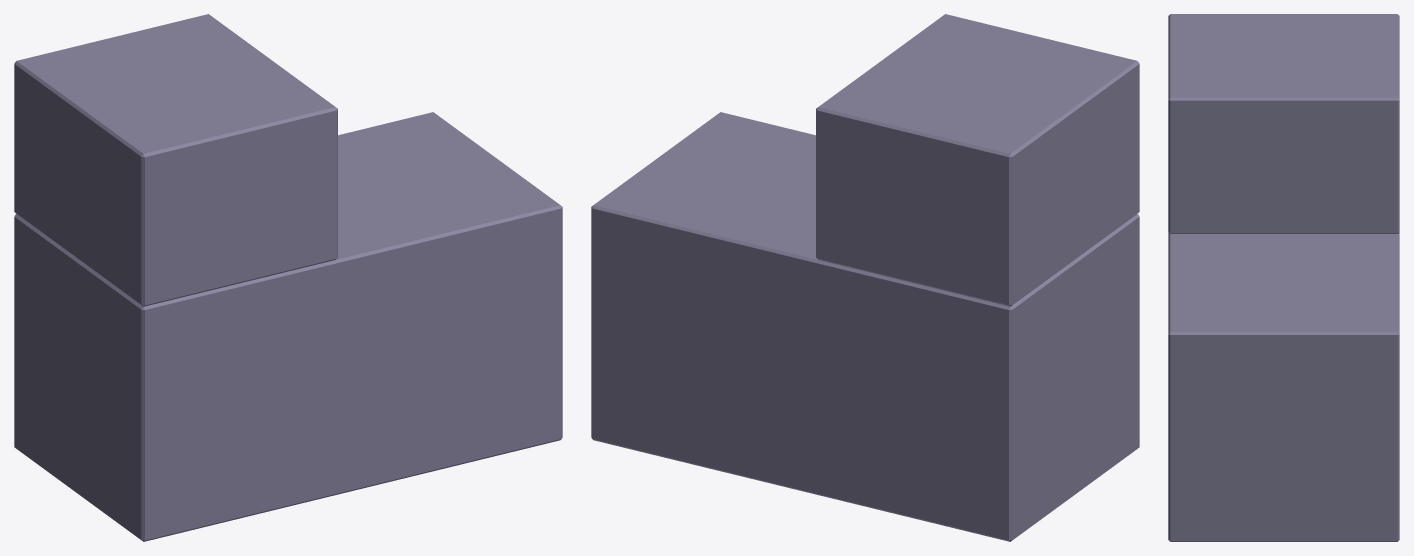
The model's file is stone_ruin_piece_01.glb.
3 views of the same model, side by side, from view 1: azimuth 30°, elevation 25°; view 2: azimuth 150°, elevation 25°; view 3: azimuth 270°, elevation 25° (orthographic). The views are drawn at different scales.
Parts seen in each view (by area): view 1: stone_ruin_piece_01; view 2: stone_ruin_piece_01; view 3: stone_ruin_piece_01.
Boxes of the visible parts, x1,y1,x2,y2 form: stone_ruin_piece_01: (14, 14, 562, 541); stone_ruin_piece_01: (591, 14, 1139, 541); stone_ruin_piece_01: (1168, 14, 1399, 541).
Size of the model in its own units: 0.75 by 0.66 by 0.4.
